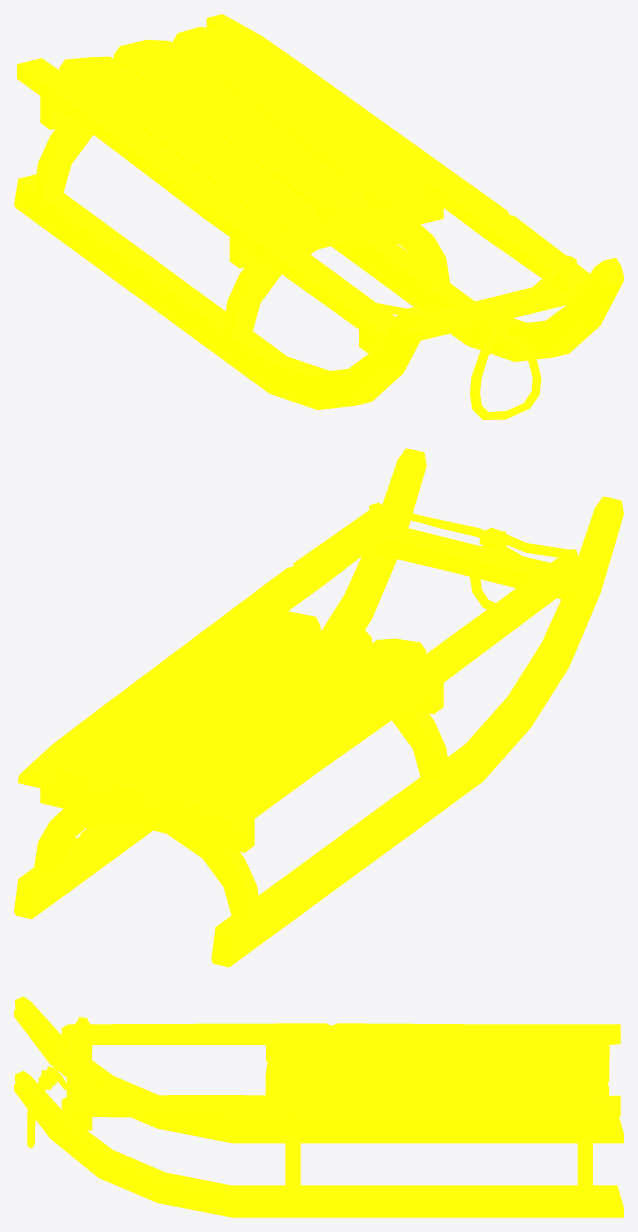
Rendered from sleigh-wooden.glb.
The picture shows the model from 3 angles, top to bottom: view 1: azimuth 30°, elevation 25°; view 2: azimuth 150°, elevation 25°; view 3: azimuth 270°, elevation 25°; orthographic projection. The views are drawn at different scales.
Visible parts, largest first — view 1: sleigh_wooden; view 2: sleigh_wooden; view 3: sleigh_wooden.
Boxes of the visible parts, bbox=[...] form: sleigh_wooden: bbox=[14, 14, 623, 419]; sleigh_wooden: bbox=[14, 448, 623, 967]; sleigh_wooden: bbox=[14, 996, 623, 1217].
Size of the model in its own units: 0.3941 by 0.3126 by 1.22.
Materials: 1 (1 with a texture image).
